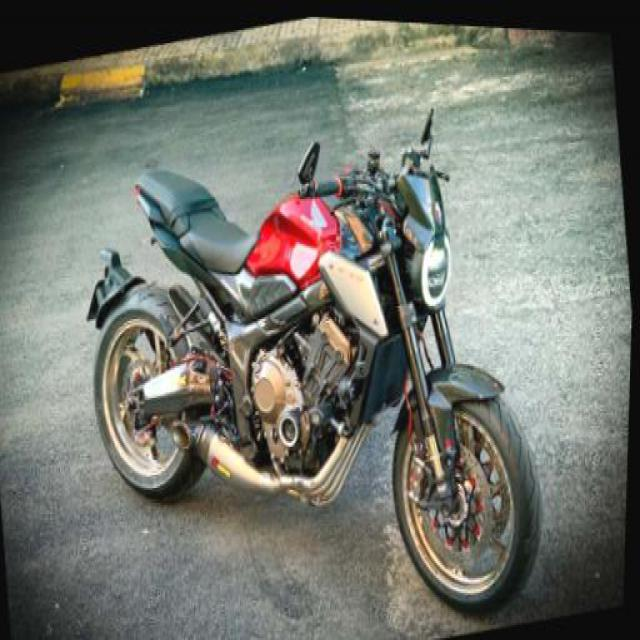CB650R: (66, 73, 569, 638)
